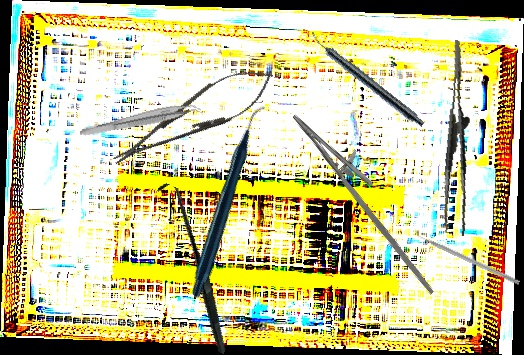Chopper: (412, 225, 523, 286)
Handpiece: (125, 103, 334, 301), (306, 30, 428, 129)
Hook Surgical: (107, 180, 278, 355)
Needle Holder: (271, 101, 467, 296), (103, 54, 283, 180)
Tissue Forceps: (425, 40, 494, 236), (78, 98, 203, 144)
